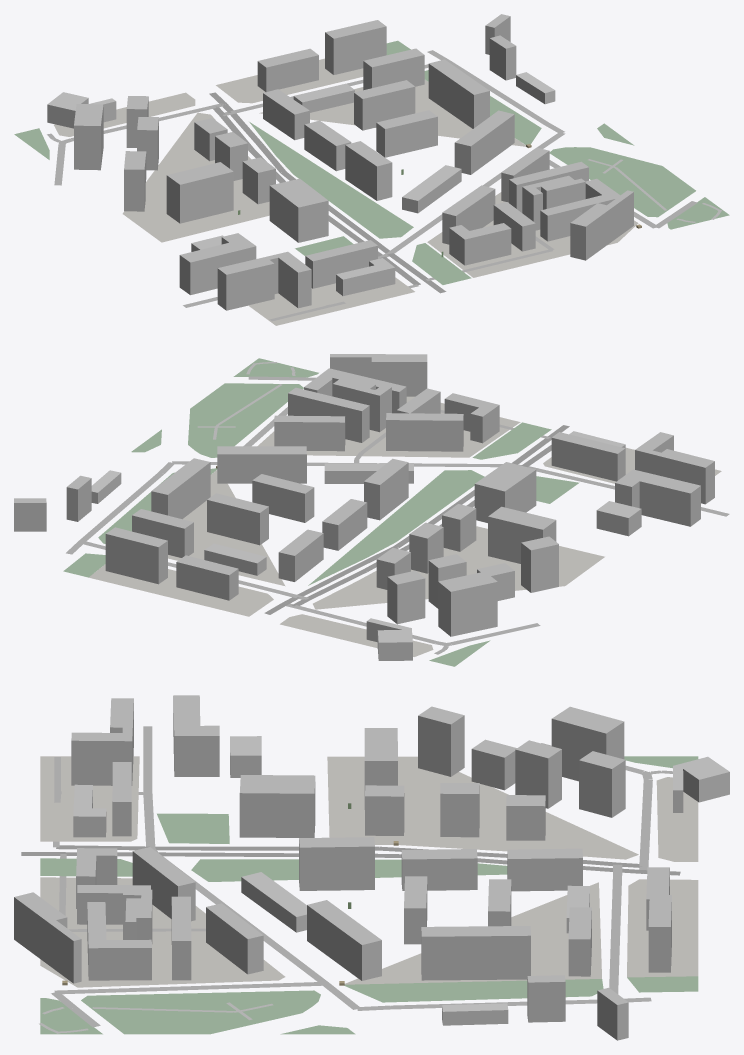
3 views of the same model, one above another, from view 1: azimuth 30°, elevation 25°; view 2: azimuth 150°, elevation 25°; view 3: azimuth 270°, elevation 25° (orthographic). The views are drawn at different scales.
Bounding box in the file's own units: 565 × 46.49 × 544.
